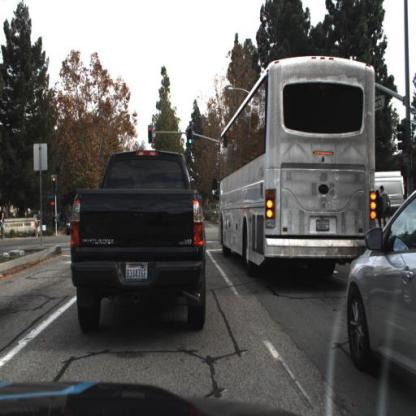biker: (33, 209, 45, 241), (1, 201, 7, 242), (35, 209, 43, 237)
car: (68, 147, 212, 341), (349, 195, 416, 391), (373, 171, 407, 219)
pedestrian: (380, 185, 393, 230)
trafficLight: (148, 126, 153, 145)
trafficLight-Green: (187, 128, 194, 149)
trafficLight-RedLeft: (51, 177, 59, 200)
truck: (215, 54, 379, 287), (377, 172, 405, 193)
